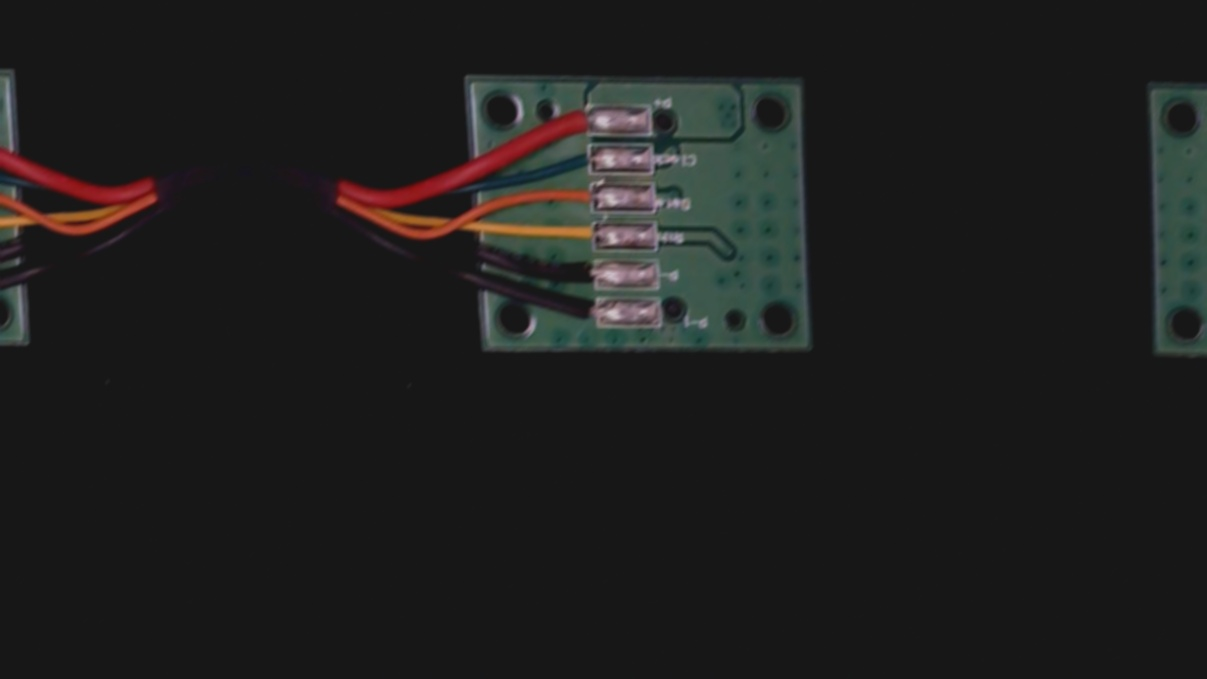Black: (537, 257, 607, 291)
Black1: (546, 298, 611, 329)
Green: (545, 143, 607, 176)
Orange: (535, 181, 607, 213)
Red: (542, 103, 604, 138)
Yellow: (537, 216, 608, 254)
